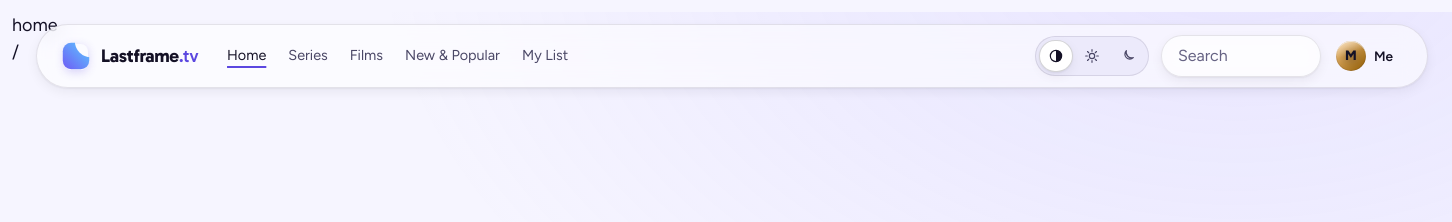
Test: Navbar Lumen hooks › renders every nav link with the view transition enabled
This screenshot has width=1452, height=222.
Expected: the link "Home" is shown, [227,46,266,64]
Expected: the link "Series" is shown, [288,46,328,64]
A viewTransition navigation still lands (jsdom has no startViewTransition).
Click the link "My List".
click(545, 55)  # box [522,46,568,64]
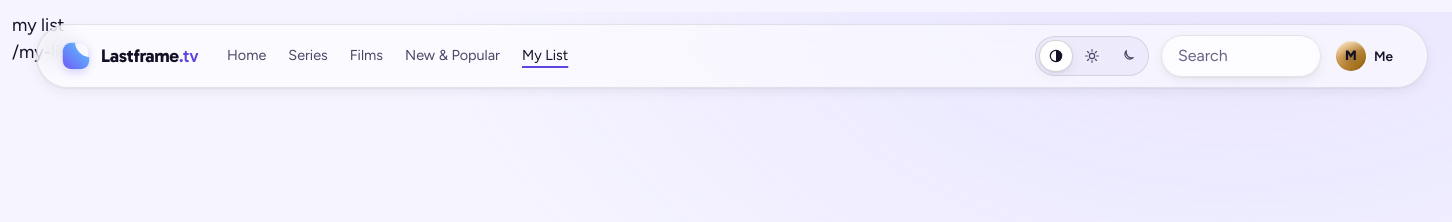
Now the text with test id "location" reads "/my-list", box [12,41,74,63]
